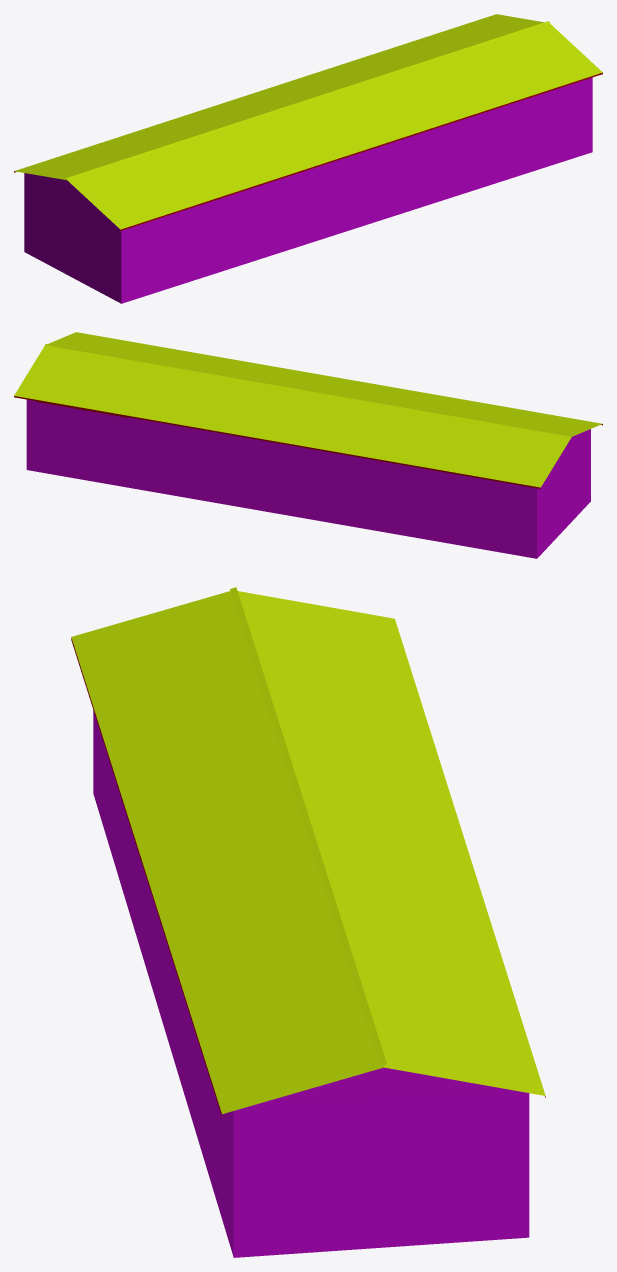
File: pierrin.glb
3 views of the same model, one above another, from view 1: azimuth 30°, elevation 25°; view 2: azimuth 150°, elevation 25°; view 3: azimuth 270°, elevation 25° (orthographic). The views are drawn at different scales.
Visible parts, largest first — view 1: pierrin; view 2: pierrin; view 3: pierrin.
Part boxes in pixels (x1,y1,x2,y2): pierrin: (14,14,602,303); pierrin: (14,332,602,558); pierrin: (71,587,545,1257).
Size of the model in its own units: 43.12 by 7.74 by 17.45.
